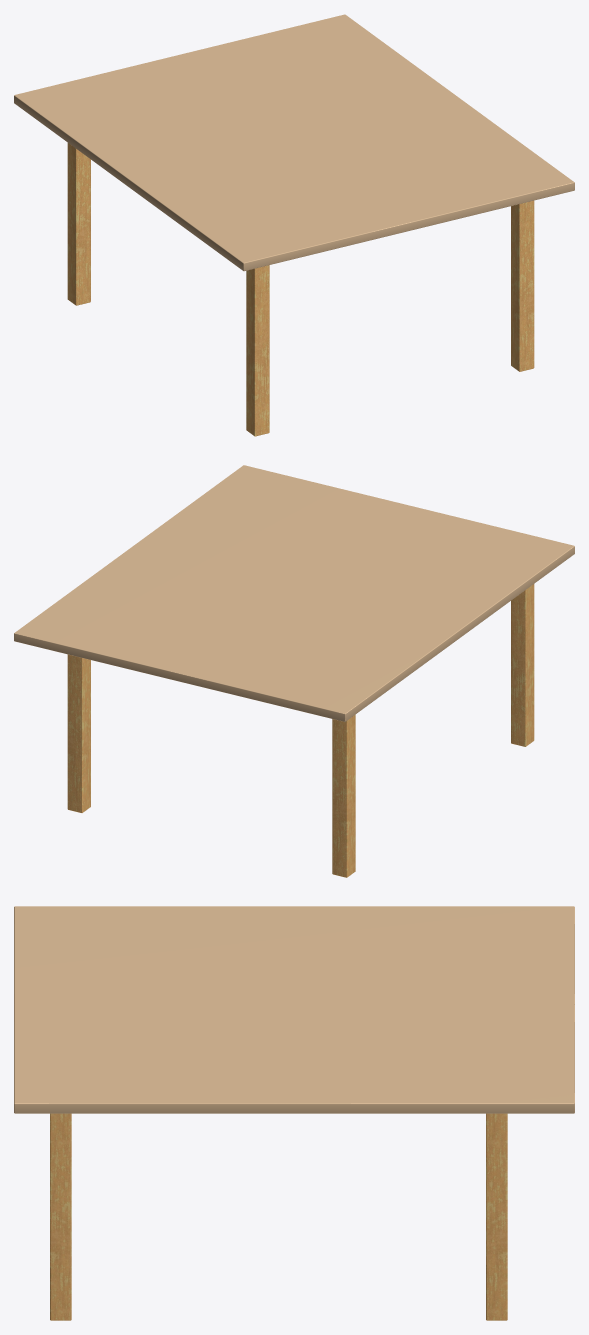
Rendered from SM_house_support.glb.
3 renders of one model, top to bottom at view 1: azimuth 30°, elevation 25°; view 2: azimuth 150°, elevation 25°; view 3: azimuth 270°, elevation 25°, orthographic. The views are drawn at different scales.
Parts seen in each view (by area): view 1: SM_house_support; view 2: SM_house_support; view 3: SM_house_support.
Boxes of the visible parts, <box> form: SM_house_support: <box>14,14,574,436</box>; SM_house_support: <box>14,465,574,877</box>; SM_house_support: <box>14,906,574,1320</box>.
Size of the model in its own units: 10 by 5.5 by 12.
Materials: 2 (1 with a texture image).
